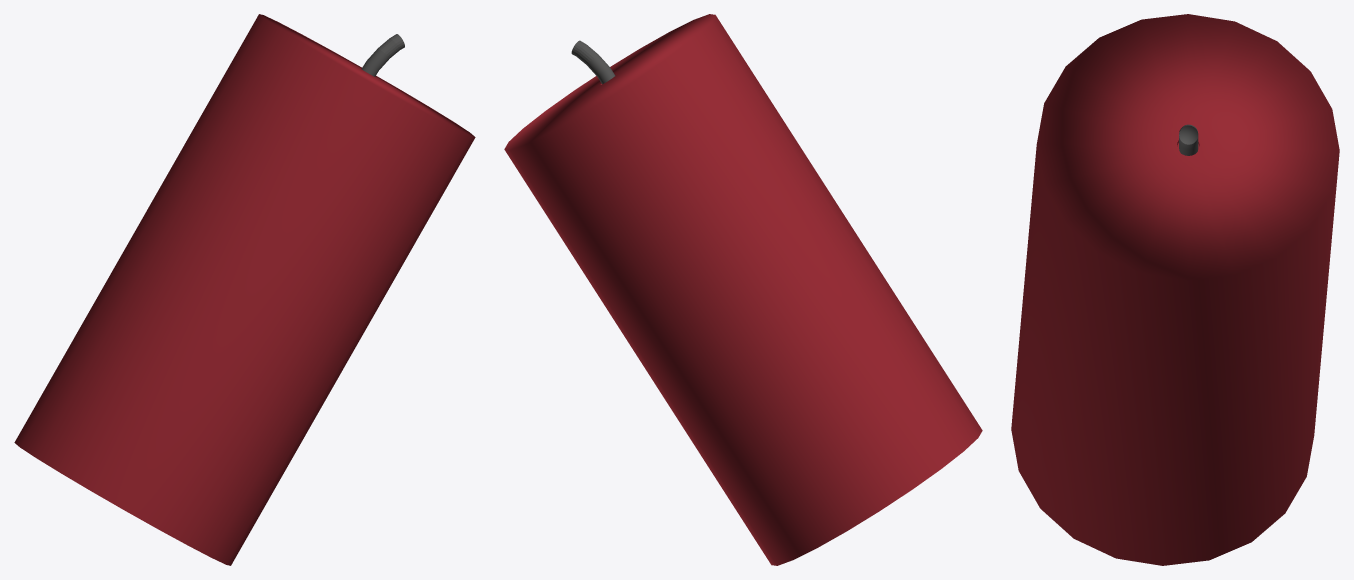
File: Big Dynamite!.fbx
3 views of the same model, side by side, from view 1: azimuth 30°, elevation 25°; view 2: azimuth 150°, elevation 25°; view 3: azimuth 270°, elevation 25° (orthographic). The views are drawn at different scales.
Parts seen in each view (by area): view 1: BigDynamite; view 2: BigDynamite; view 3: BigDynamite.
Part boxes in pixels (x1,y1,x2,y2): BigDynamite: [14, 14, 475, 565]; BigDynamite: [504, 14, 982, 565]; BigDynamite: [1011, 14, 1339, 565].
Size of the model in its own units: 2.24 by 2.47 by 1.22.
